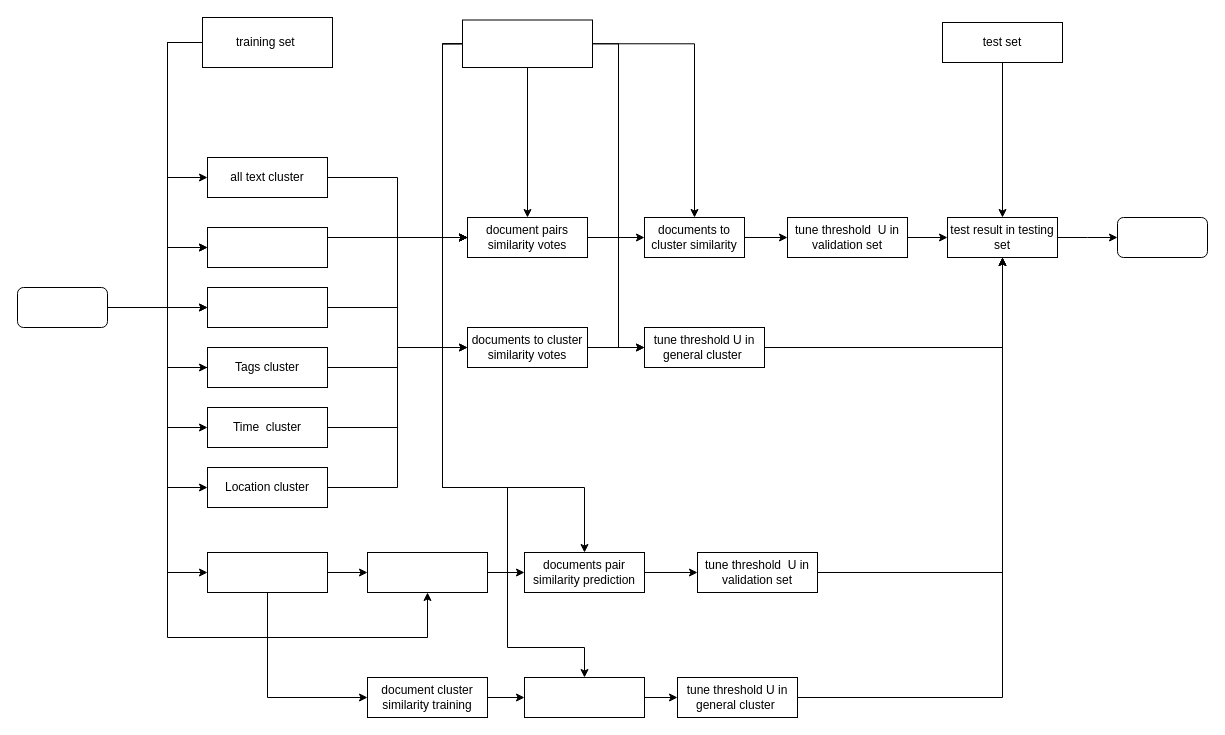
The diagram is 1225 pixels wide and 735 high, and some of its shapes have lost their labels. Here are the shapes that lost their labels. From the top down, the centre of each, then its label:
At pixel 527 43: "validation set".
At pixel 267 247: "title cluster".
At pixel 1162 237: "end".
At pixel 62 307: "start".
At pixel 267 307: "Description cluster".
At pixel 267 572: "classification technique".
At pixel 427 572: "document pair similarity training".
At pixel 584 697: "document cluster similarity prediction".
